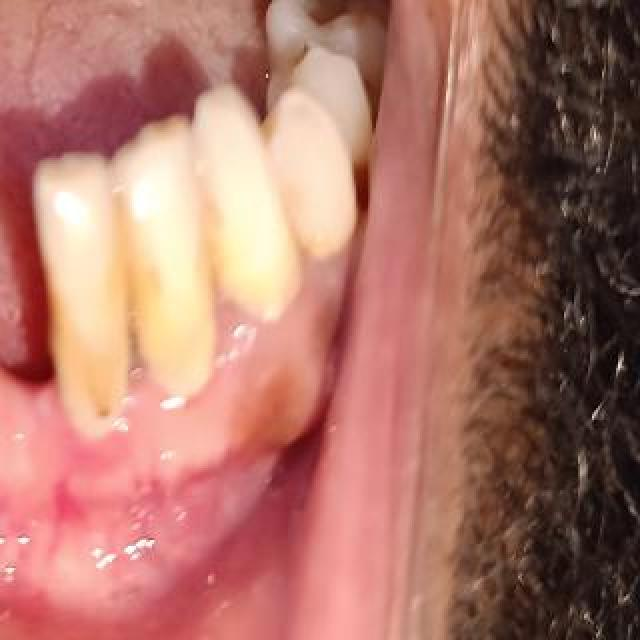calculus: (31, 339, 139, 481), (137, 303, 211, 459)
missing: (0, 154, 56, 406)
